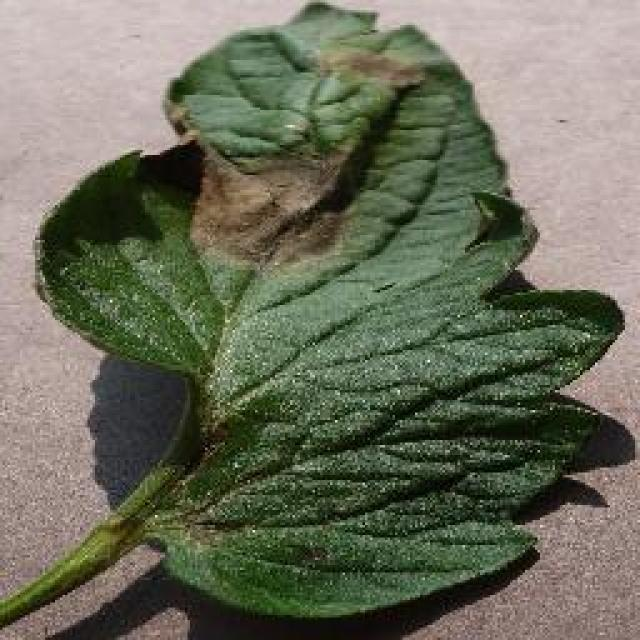Tomato late blight leaf: (30, 0, 622, 625)
